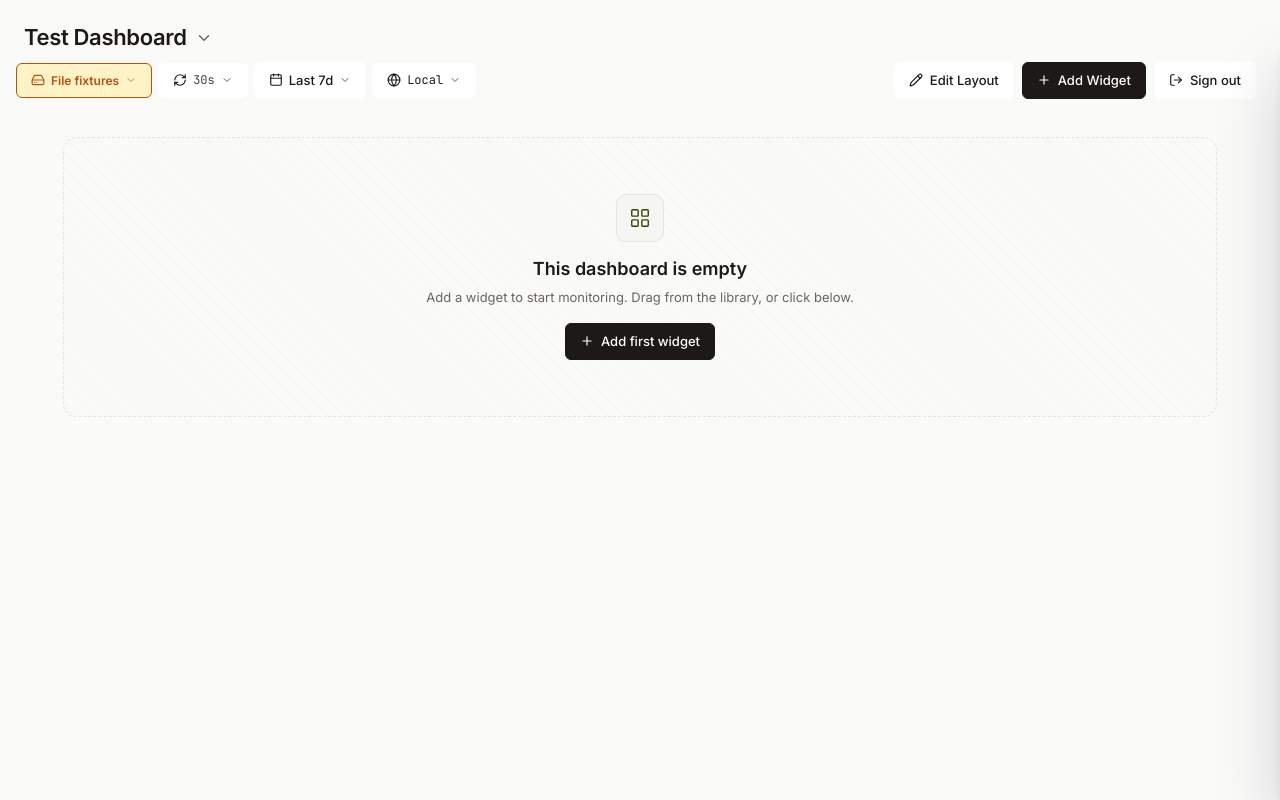
Test: DashboardView › shows Save and Discard buttons in edit mode
The image size is (1280, 800).
Click the button "Add Widget" at coordinates (1084, 80), box 1022,62 -> 1146,99
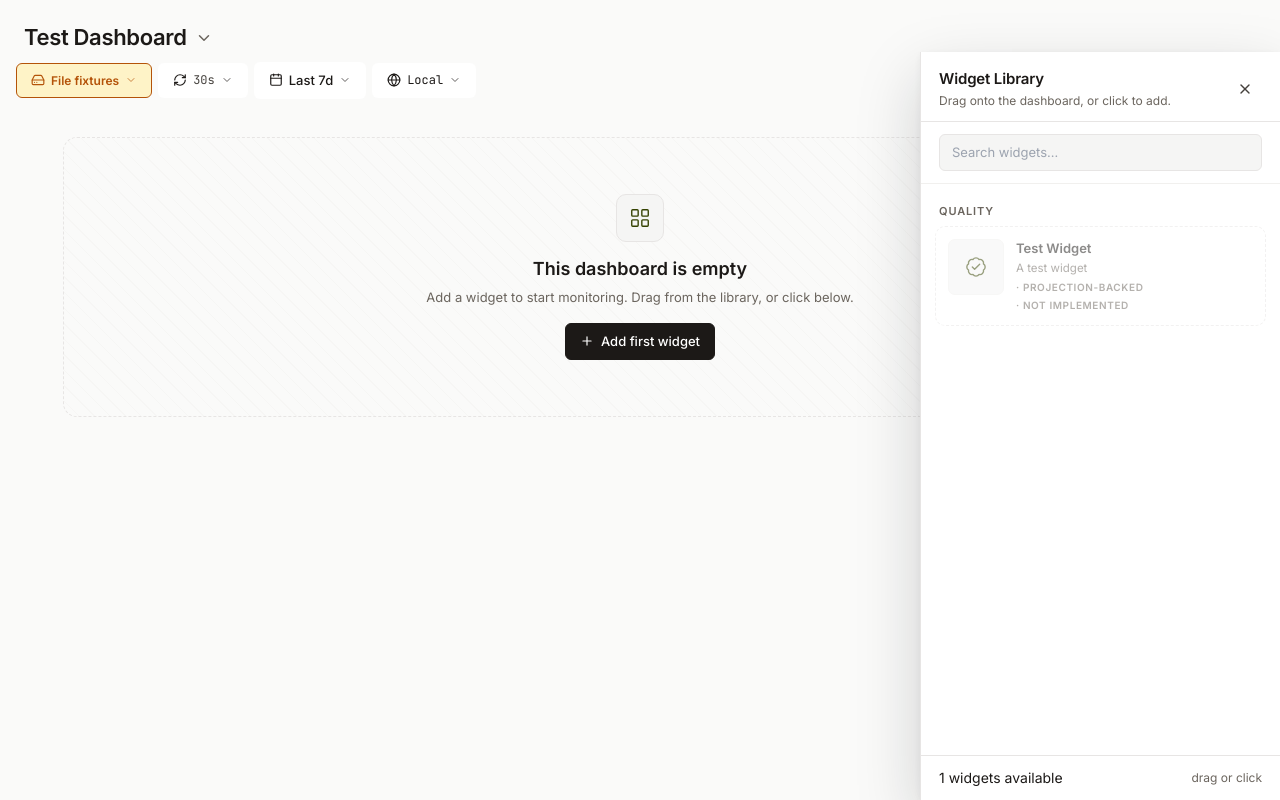
Expected: the button "Save" is shown, 1076,62 -> 1158,99
Expected: the button "Discard" is shown, 1158,62 -> 1256,99
